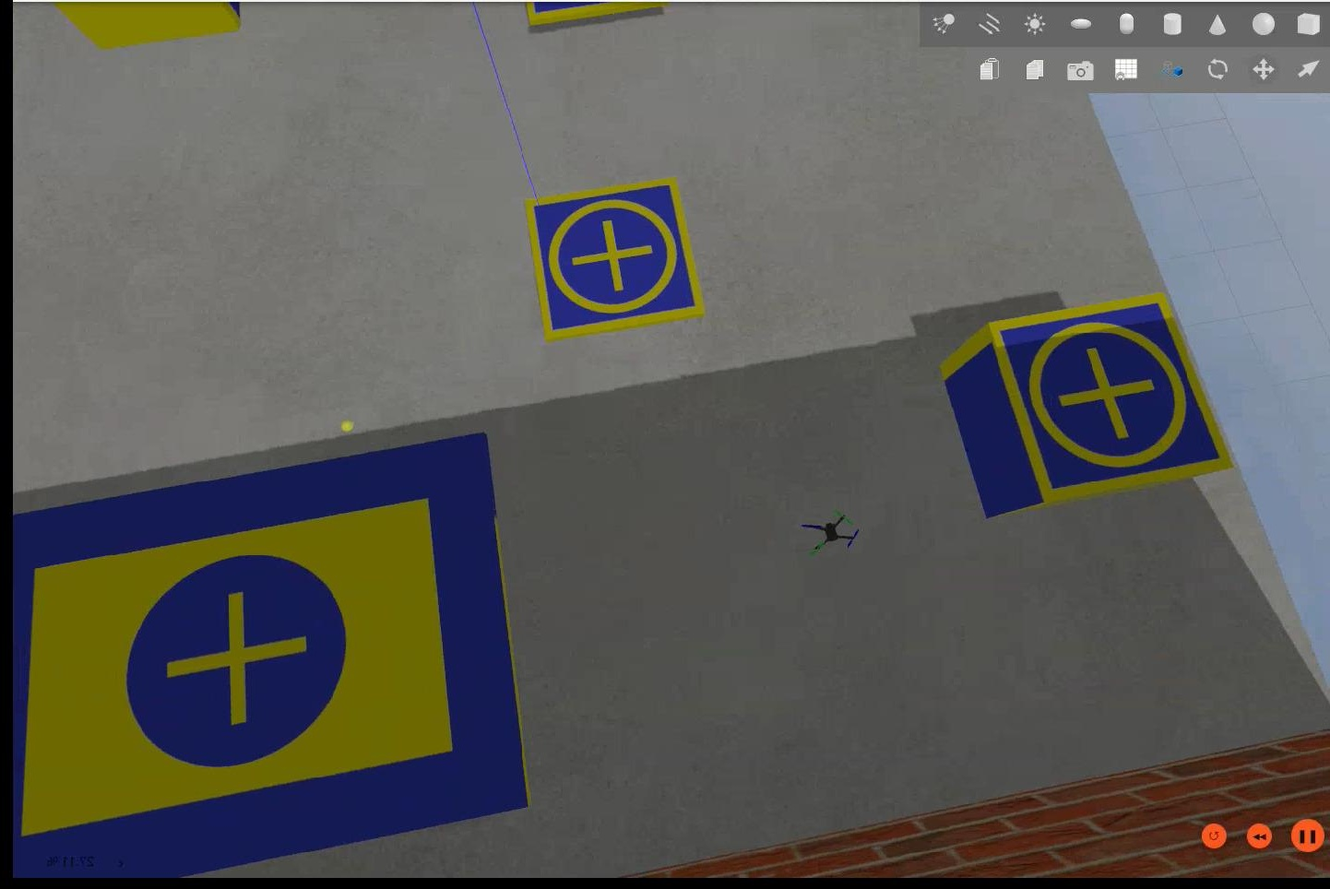large_base: (10, 428, 531, 879)
small_base: (982, 290, 1235, 510), (519, 174, 705, 350)
